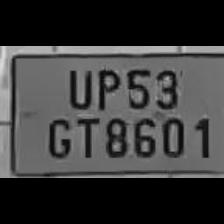0: (157, 112, 185, 158)
1: (187, 113, 215, 159)
3: (152, 64, 181, 110)
5: (121, 63, 150, 109)
6: (129, 112, 157, 158)
8: (101, 111, 127, 159)
G: (44, 112, 72, 158)
P: (92, 63, 120, 109)
T: (73, 114, 99, 158)
U: (62, 64, 94, 108)
